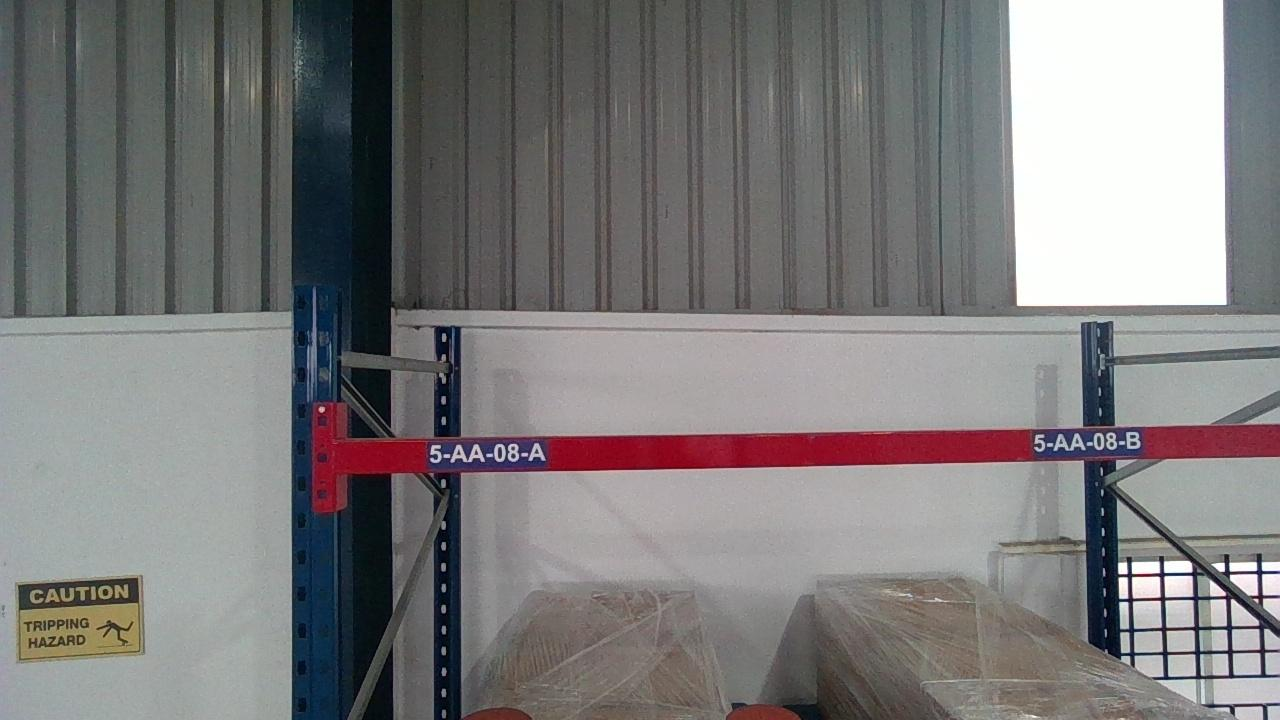h_rack: (339, 437, 1280, 458)
